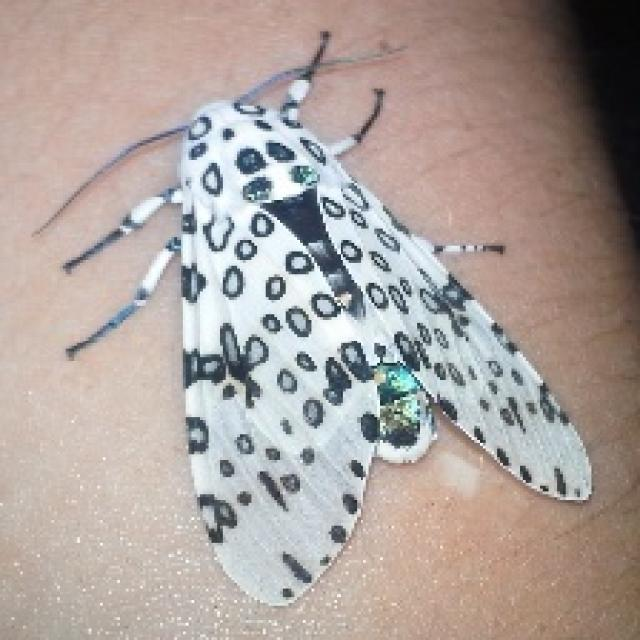butterfly: (29, 26, 594, 606)
